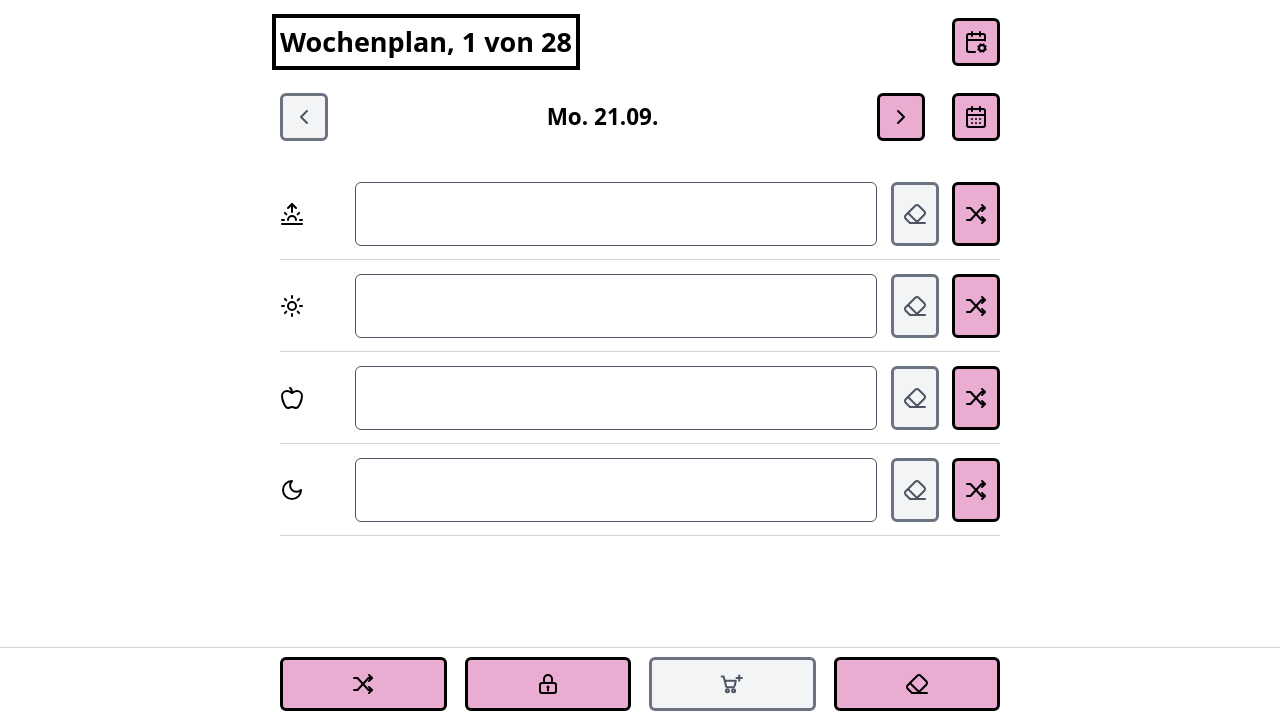
Scenario: WeekPlanArea › shows the meals of the day that was stepped to
This screenshot has width=1280, height=720.
Expected: the field named "Mittagessen" is empty, [355, 274, 877, 338]
Click the button named "Nächster Tag" at [901, 117], box [877, 93, 925, 141]
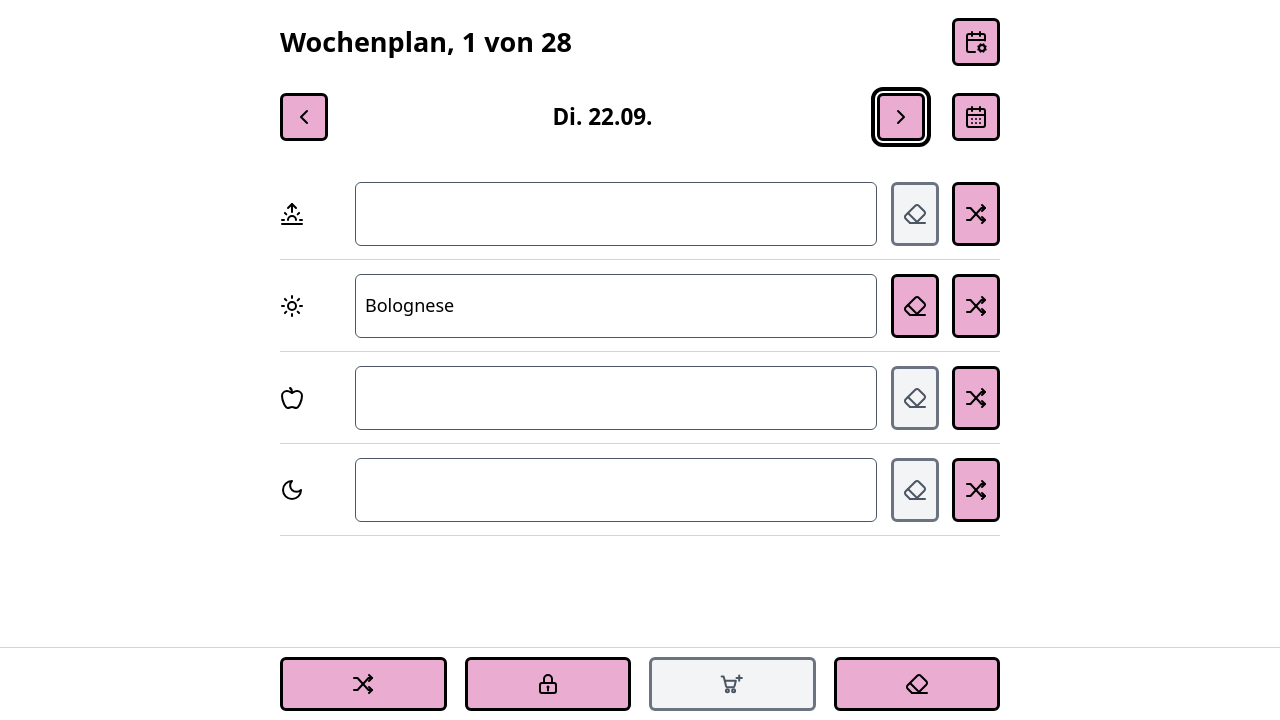
Now the field named "Mittagessen" holds "Bolognese", box [355, 274, 877, 338]
